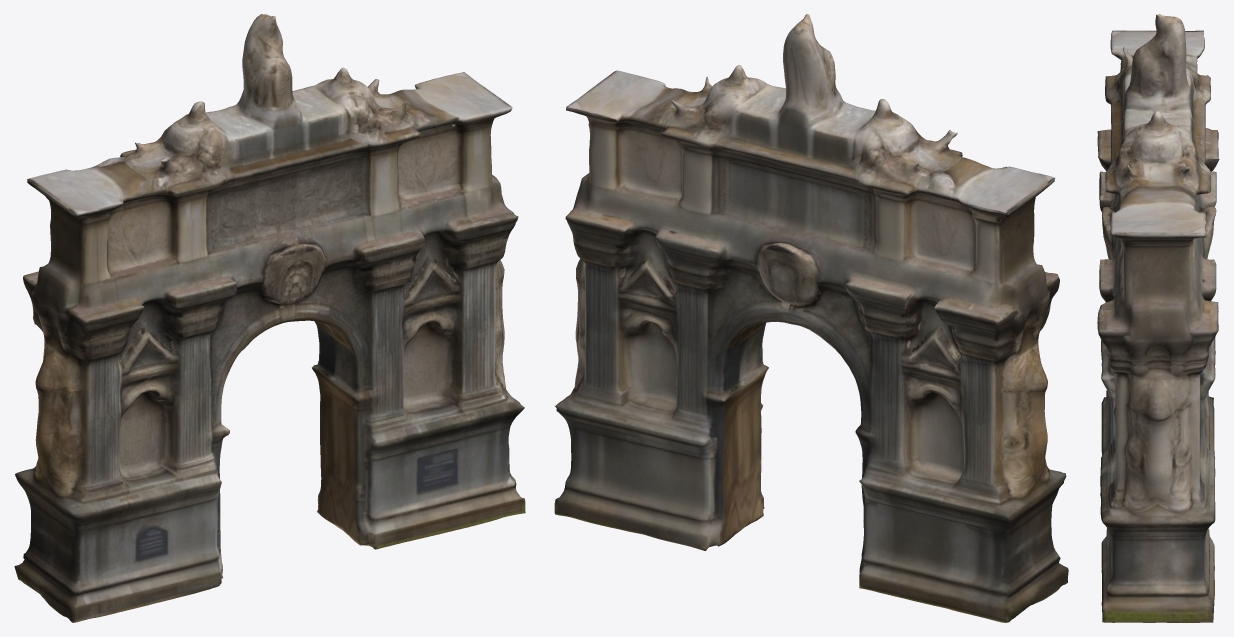
File: arc3.glb
The picture shows the model from 3 angles, left to right: view 1: azimuth 30°, elevation 25°; view 2: azimuth 150°, elevation 25°; view 3: azimuth 270°, elevation 25°; orthographic projection. The views are drawn at different scales.
Parts seen in each view (by area): view 1: Mesh0; view 2: Mesh0; view 3: Mesh0.
Boxes of the visible parts, x1=… form: Mesh0: x1=14, y1=14, x2=525, y2=622; Mesh0: x1=554, y1=14, x2=1068, y2=622; Mesh0: x1=1097, y1=14, x2=1219, y2=622.
Bounding box in the file's own units: 1.75 × 1.91 × 0.4169.
1 material, 1 textured.
